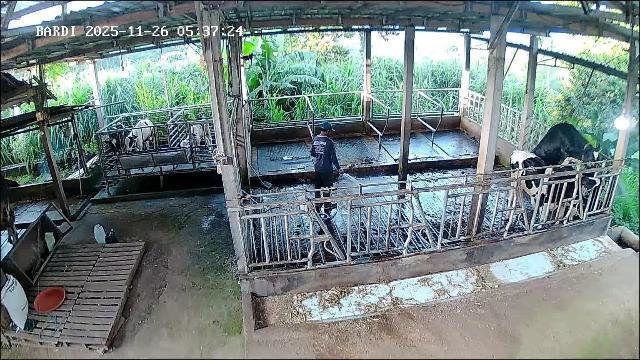mounting: (531, 122, 600, 168)
